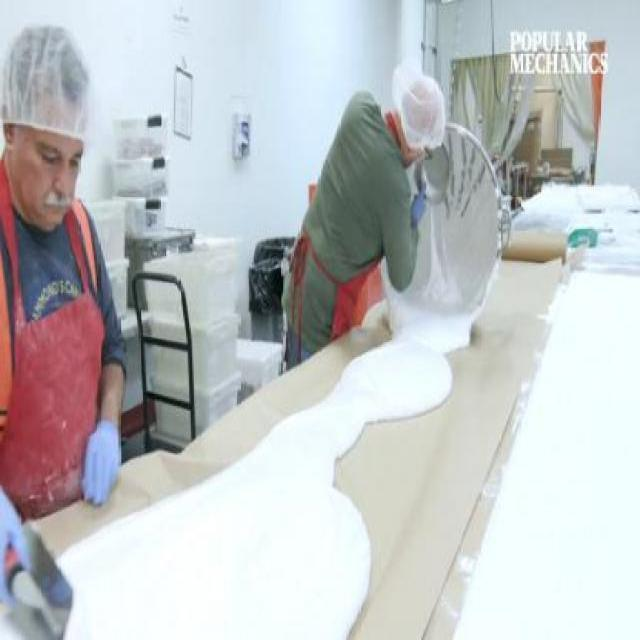gloved_hand: (77, 392, 144, 519), (1, 468, 42, 635), (406, 177, 435, 239)
